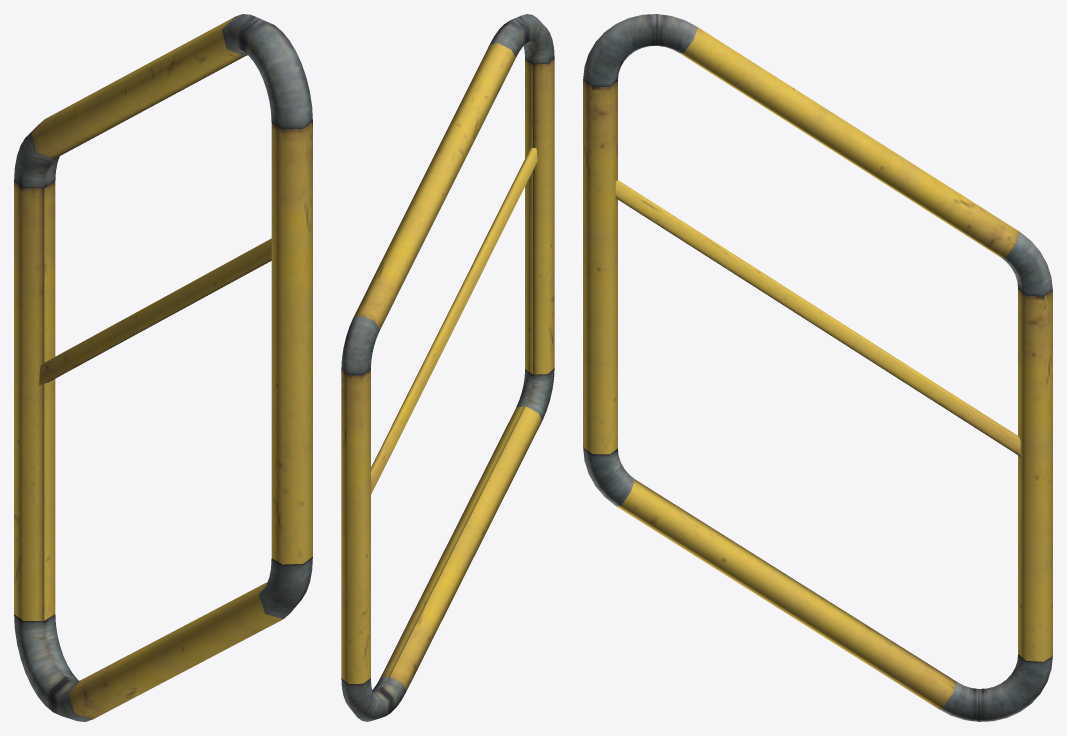
Rendered from Railing_15.fbx.
The picture shows the model from 3 angles, left to right: view 1: azimuth 30°, elevation 25°; view 2: azimuth 150°, elevation 25°; view 3: azimuth 270°, elevation 25°; orthographic projection. The views are drawn at different scales.
Visible parts, largest first — view 1: Railing_15; view 2: Railing_15; view 3: Railing_15.
Boxes of the visible parts, x1=… form: Railing_15: x1=14, y1=14, x2=312, y2=721; Railing_15: x1=341, y1=14, x2=554, y2=721; Railing_15: x1=583, y1=14, x2=1052, y2=721.
Bounding box in the file's own units: 5.41 × 136 × 81.86.
